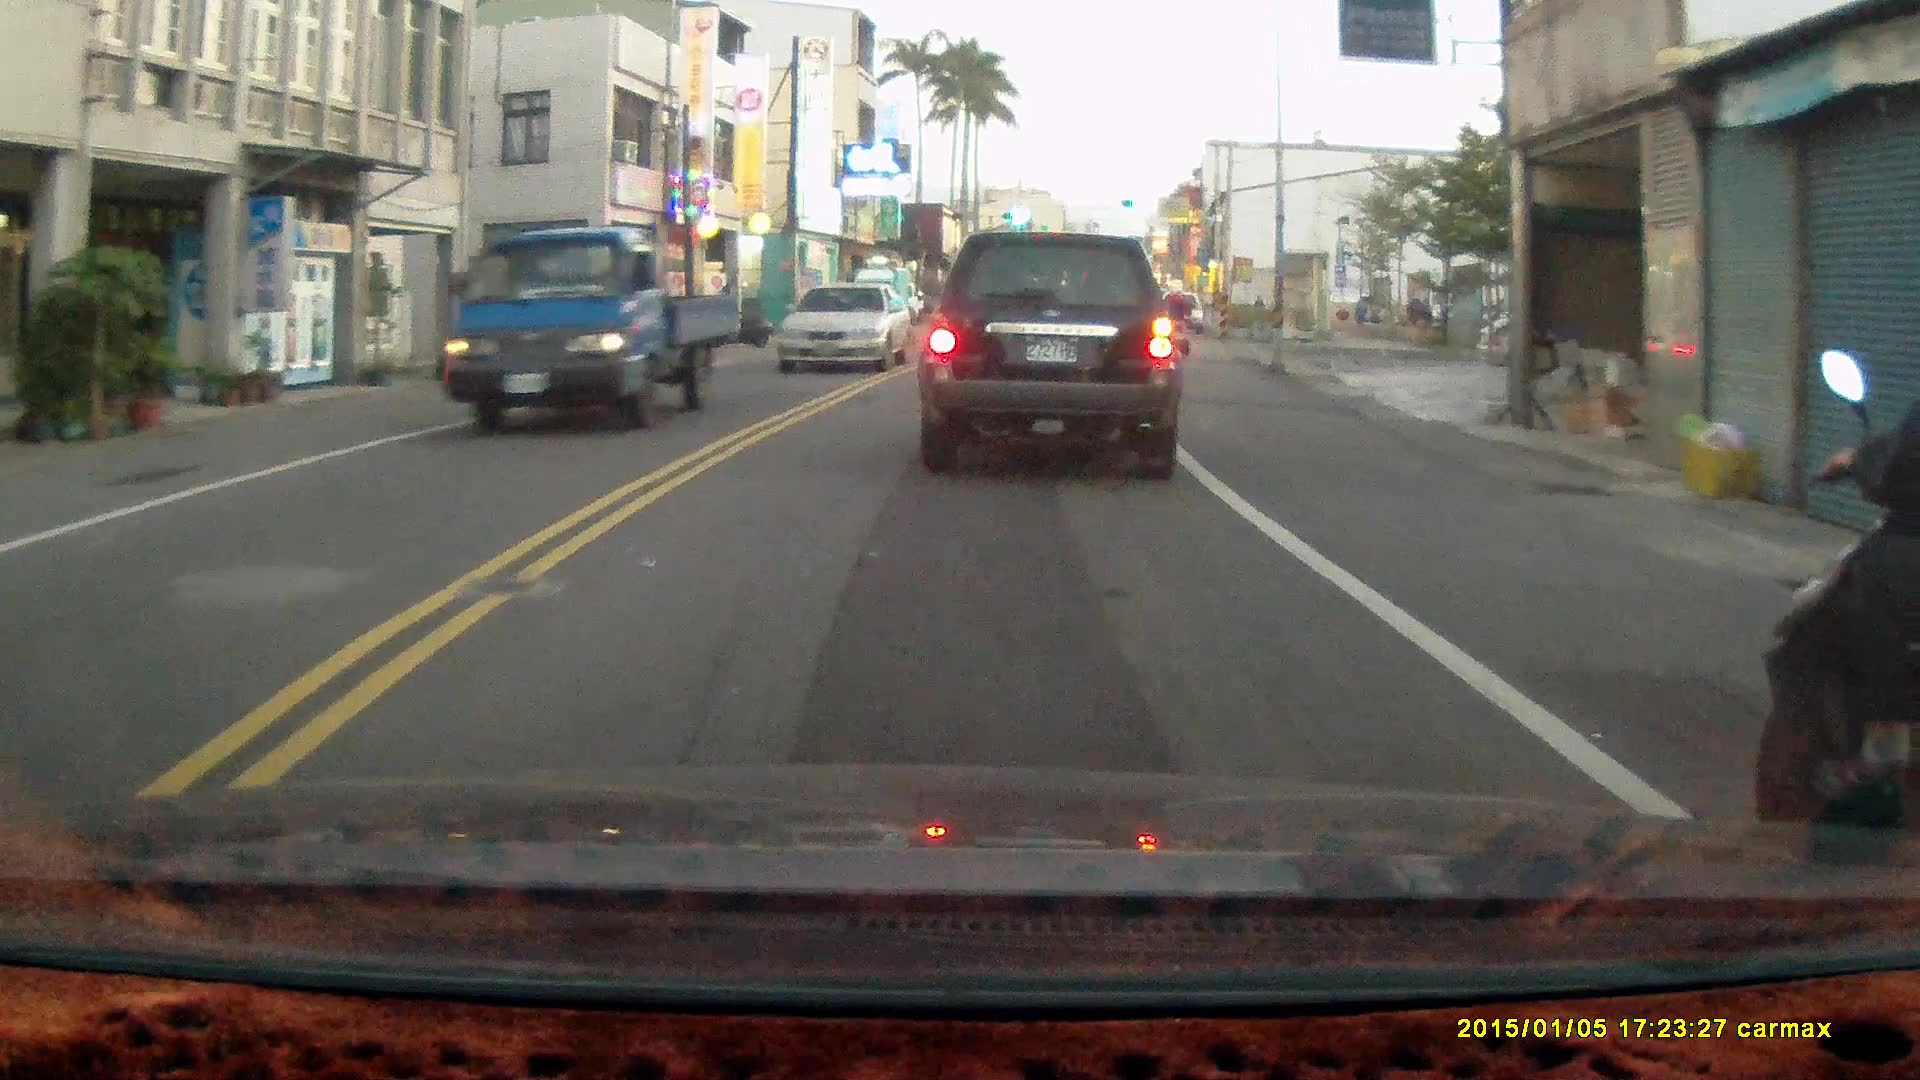rider: (1760, 309, 1920, 897), (1160, 276, 1192, 361)
vehicle: (919, 227, 1189, 482), (432, 220, 741, 431), (780, 284, 908, 381)
